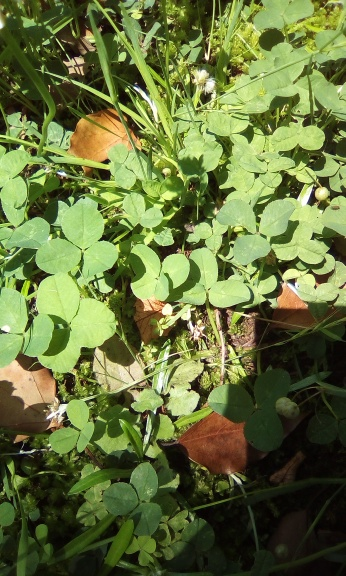4leaf: (127, 243, 191, 303)
